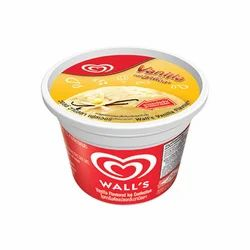Kwality_Walls: (88, 149, 159, 192), (80, 58, 116, 77)
